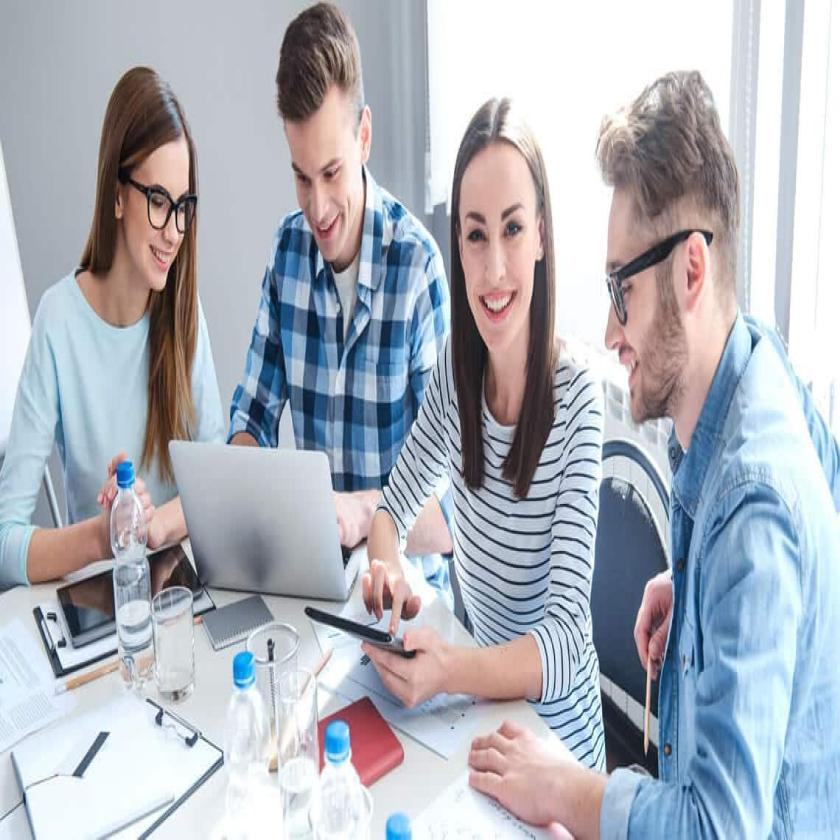Sin_casco: (596, 76, 741, 437), (270, 0, 372, 271), (452, 92, 552, 366), (107, 68, 198, 290)
